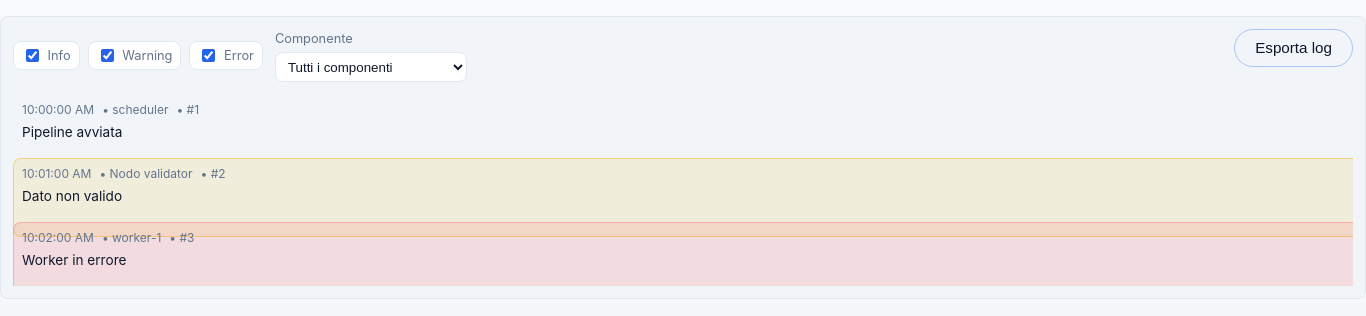
Test: LogViewer › permette di filtrare i log per componente
This screenshot has width=1366, height=316.
Select "scheduler" in the dropdown labelled "Componente" at {"x": 371, "y": 67}, box top-left (275, 52), bottom-right (467, 82)
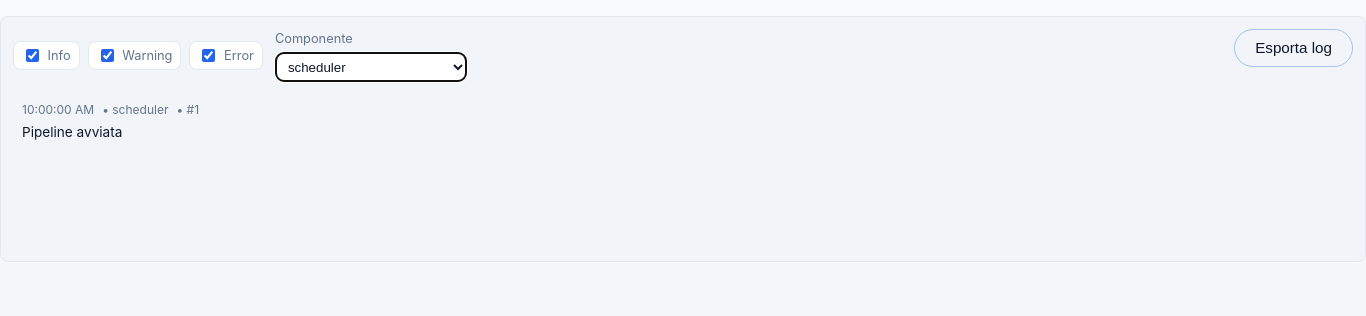
Expected: the text "Pipeline avviata" is shown, top-left (22, 125), bottom-right (122, 141)
Expected: the text "Dato non valido" is not shown
Expected: the text "Worker in errore" is not shown
